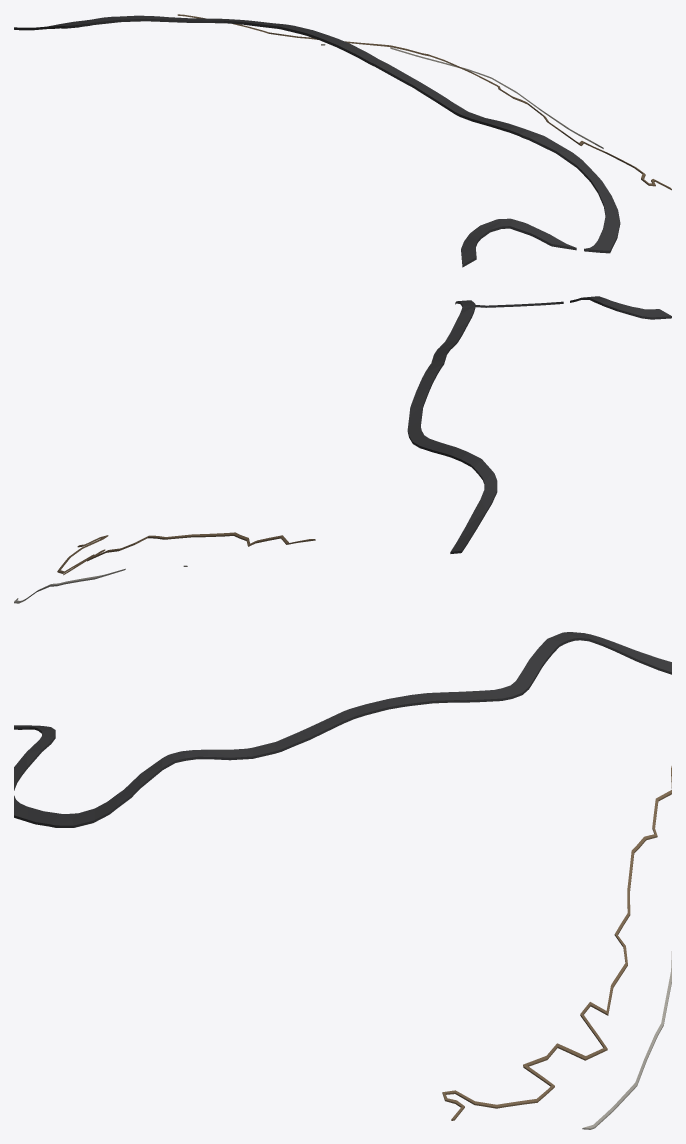
3 views of the same model, one above another, from view 1: azimuth 30°, elevation 25°; view 2: azimuth 150°, elevation 25°; view 3: azimuth 270°, elevation 25° (orthographic). The views are drawn at different scales.
Bounding box in the file's own units: 267 × 127 × 292.
